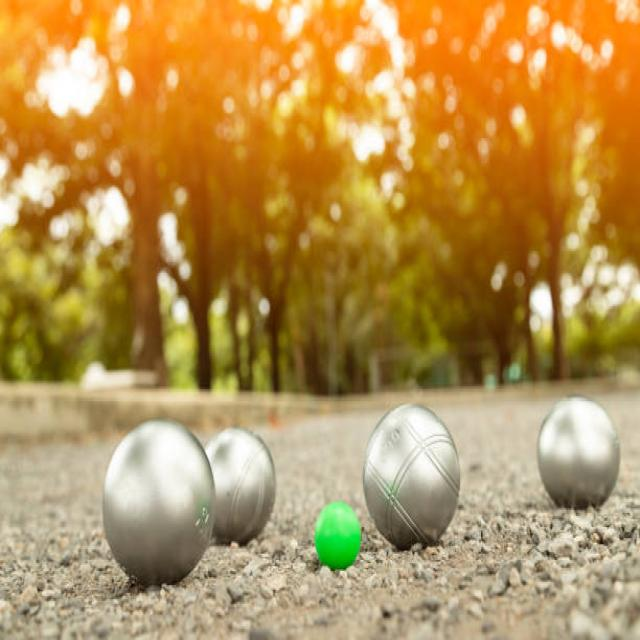hatball: (309, 496, 368, 576)
petanque: (100, 412, 225, 599), (358, 395, 463, 559), (527, 390, 626, 525), (202, 420, 282, 556)
